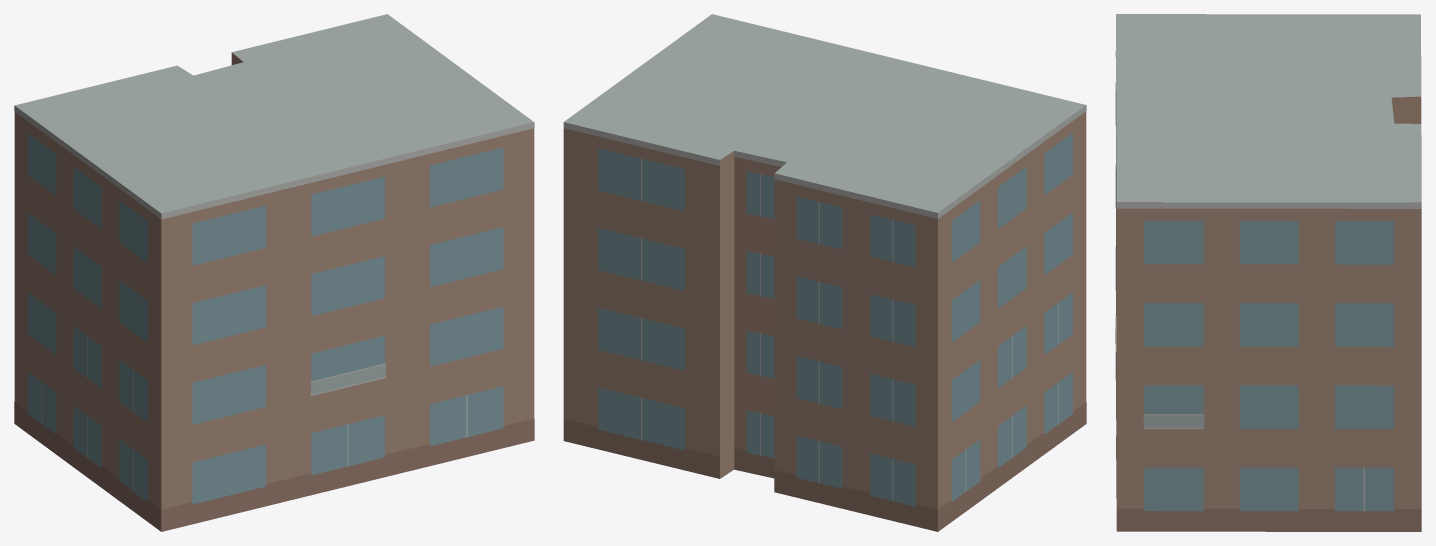
Rendered from survey-upis-32911229.glb.
The picture shows the model from 3 angles, left to right: view 1: azimuth 30°, elevation 25°; view 2: azimuth 150°, elevation 25°; view 3: azimuth 270°, elevation 25°; orthographic projection. The views are drawn at different scales.
Visible parts, largest first — view 1: survey-upis-32911229.tmp; view 2: survey-upis-32911229.tmp; view 3: survey-upis-32911229.tmp.
Boxes of the visible parts, left/top/right/bottom form: survey-upis-32911229.tmp: left=14, top=14, right=534, bottom=531; survey-upis-32911229.tmp: left=563, top=14, right=1086, bottom=531; survey-upis-32911229.tmp: left=1115, top=14, right=1421, bottom=531.
Bounding box in the file's own units: 16.03 × 13.02 × 11.
